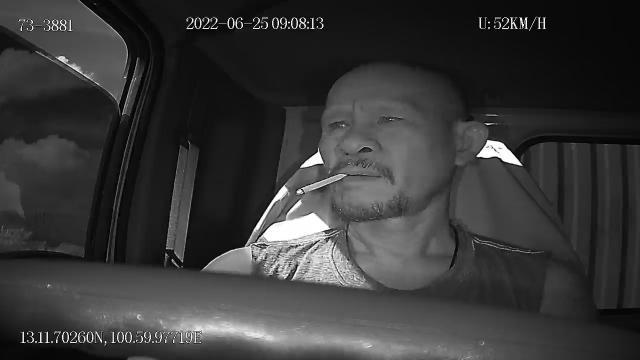SafeDriving: (370, 104, 416, 134), (322, 108, 356, 137)
Smoking: (296, 171, 346, 195)
